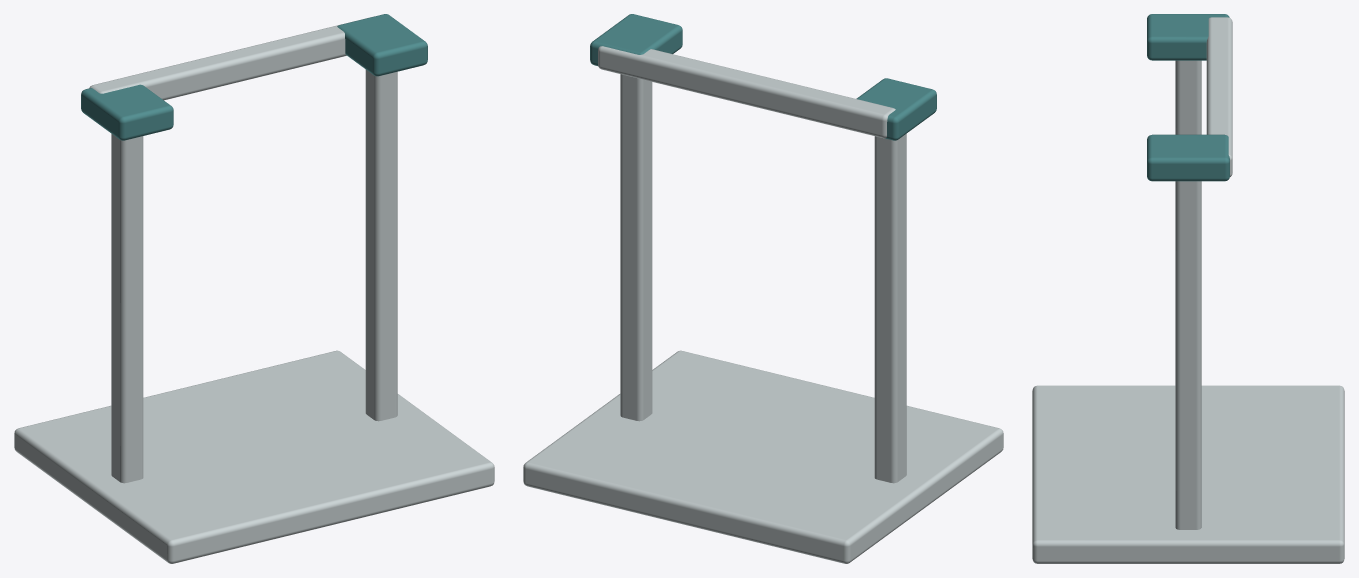
Rendered from mushroom-farm-and-grow-rooms-grow-bag-support-jig-63cf8f81__30809.glb.
3 renders of one model, left to right at view 1: azimuth 30°, elevation 25°; view 2: azimuth 150°, elevation 25°; view 3: azimuth 270°, elevation 25°, orthographic.
Parts seen in each view (by area): view 1: grow-bag-support-jig; view 2: grow-bag-support-jig; view 3: grow-bag-support-jig.
Boxes of the visible parts, left/top/right/bottom form: grow-bag-support-jig: left=14, top=14, right=494, bottom=563; grow-bag-support-jig: left=523, top=14, right=1003, bottom=563; grow-bag-support-jig: left=1032, top=14, right=1344, bottom=563.
Bounding box in the file's own units: 0.36 × 0.4262 × 0.3.
